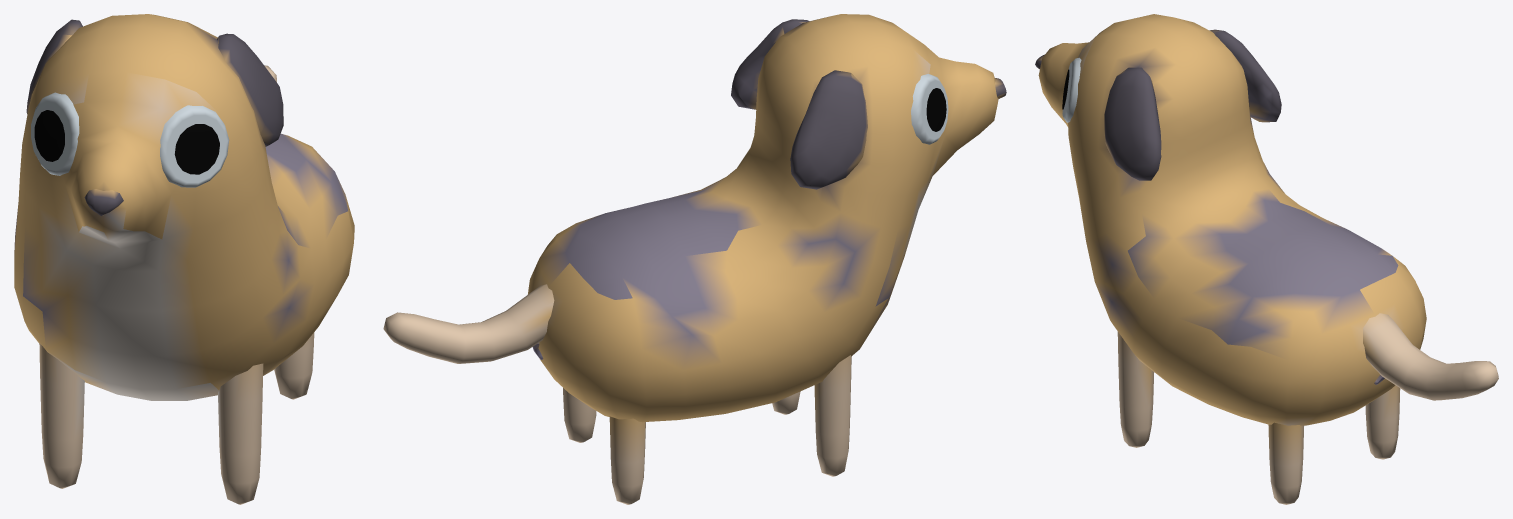
Rendered from Dog.glb.
3 views of the same model, side by side, from view 1: azimuth 30°, elevation 25°; view 2: azimuth 150°, elevation 25°; view 3: azimuth 270°, elevation 25° (orthographic). The views are drawn at different scales.
Visible parts, largest first — view 1: 39; view 2: 39; view 3: 39.
Part boxes in pixels (box(x1,y1,x2,y2)): 39: box(14, 14, 354, 504); 39: box(383, 14, 1006, 504); 39: box(1035, 14, 1498, 504).
Size of the model in its own units: 0.8379 by 0.858 by 0.9233.
